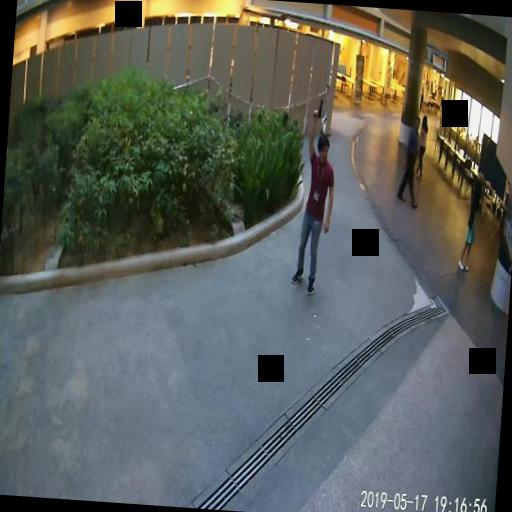Handgun: (312, 96, 322, 118)
